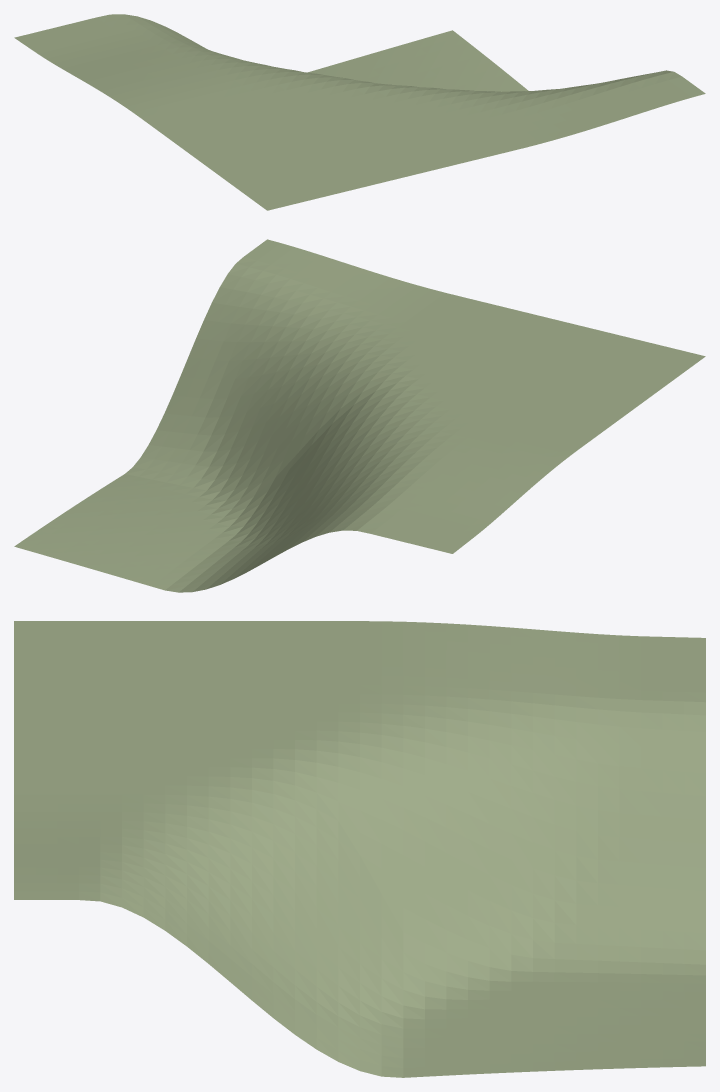
Rendered from alpine-3-10.glb.
3 renders of one model, top to bottom at view 1: azimuth 30°, elevation 25°; view 2: azimuth 150°, elevation 25°; view 3: azimuth 270°, elevation 25°, orthographic. The views are drawn at different scales.
Visible parts, largest first — view 1: alpine-3-10; view 2: alpine-3-10; view 3: alpine-3-10.
Boxes of the visible parts, x1,y1,x2,y2 form: alpine-3-10: (14, 14, 705, 210); alpine-3-10: (14, 239, 705, 592); alpine-3-10: (14, 621, 705, 1077).
Size of the model in its own units: 256 by 72.66 by 256.
